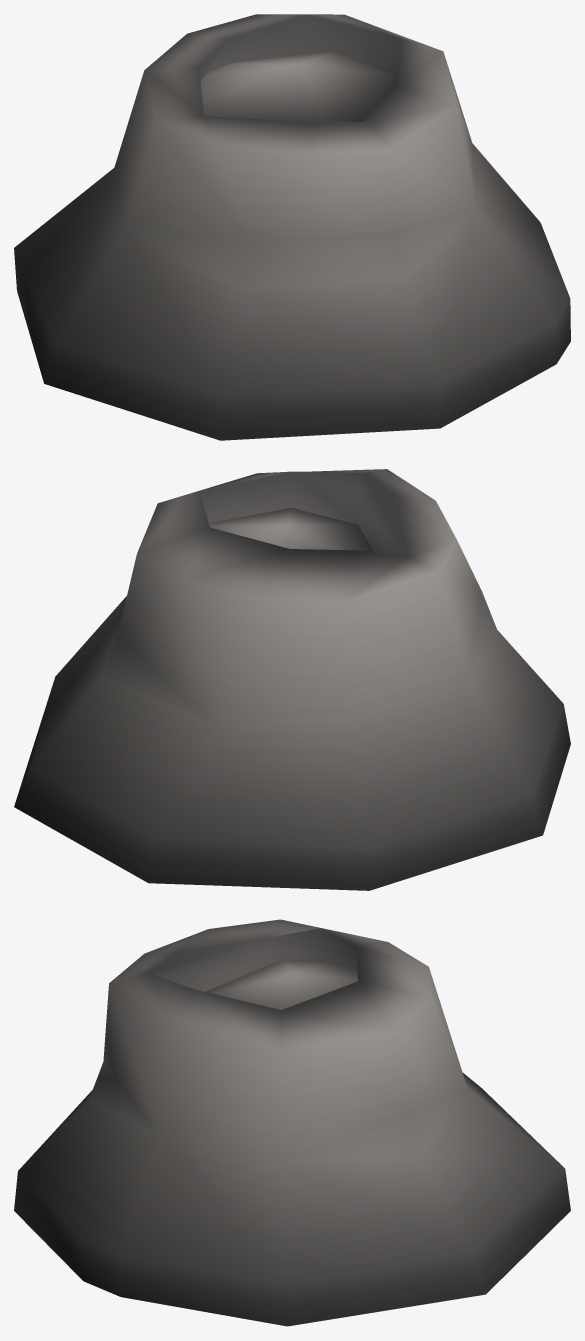
Rendered from m_Vent08_A.fbx.
3 renders of one model, top to bottom at view 1: azimuth 30°, elevation 25°; view 2: azimuth 150°, elevation 25°; view 3: azimuth 270°, elevation 25°, orthographic. The views are drawn at different scales.
Parts seen in each view (by area): view 1: m_Vent08_A; view 2: m_Vent08_A; view 3: m_Vent08_A.
Part boxes in pixels (bbox=[...]): m_Vent08_A: bbox=[14, 14, 570, 440]; m_Vent08_A: bbox=[14, 469, 570, 890]; m_Vent08_A: bbox=[14, 919, 570, 1326].
Size of the model in its own units: 234 by 119 by 238.
